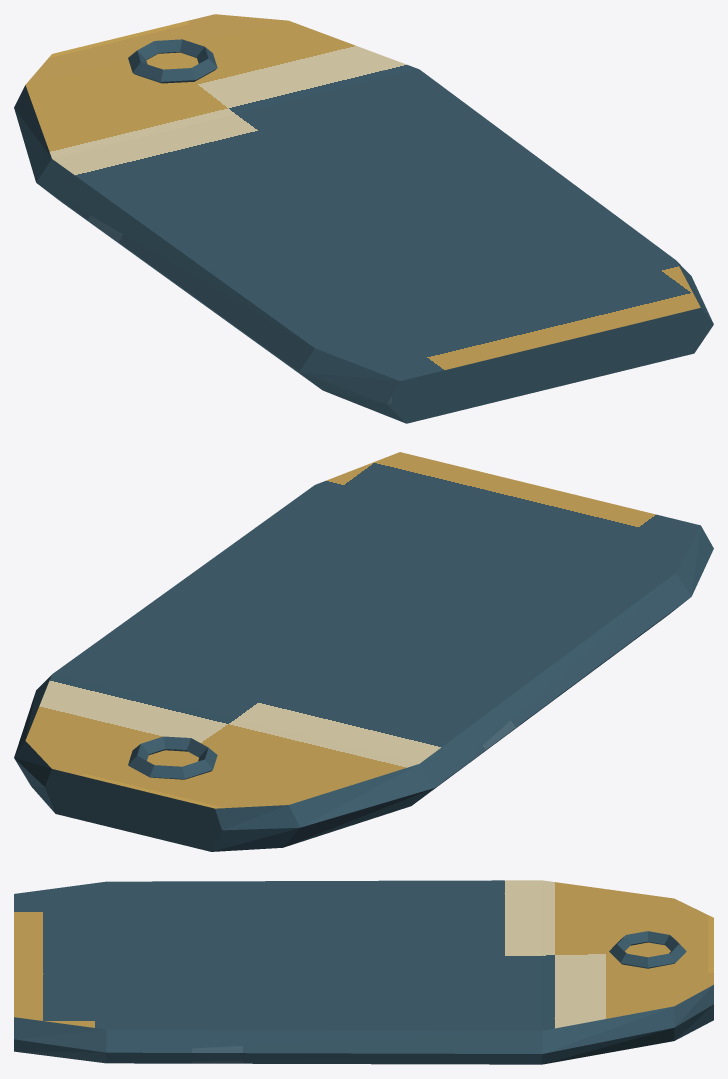
File: bodyboard.glb
The picture shows the model from 3 angles, top to bottom: view 1: azimuth 30°, elevation 25°; view 2: azimuth 150°, elevation 25°; view 3: azimuth 270°, elevation 25°; orthographic projection. The views are drawn at different scales.
Visible parts, largest first — view 1: bodyboard; view 2: bodyboard; view 3: bodyboard.
Boxes of the visible parts, box(x1,y1,x2,y2) form: bodyboard: box(14, 14, 713, 423); bodyboard: box(14, 452, 713, 851); bodyboard: box(14, 880, 713, 1064).
Size of the model in its own units: 0.586 by 0.081 by 1.06.
1 material, 1 textured.
